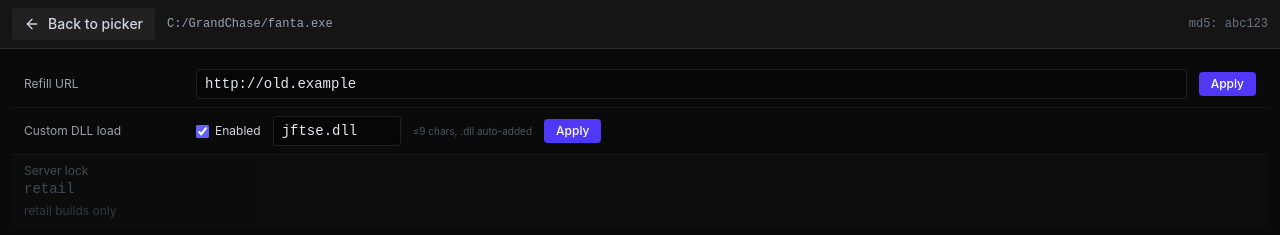
Test: ExePanel › appends .dll on blur (case-sensitive, no stripping)
The image size is (1280, 235).
Replace the text in the field labelled "Custom DLL load" with "foo" at [337, 131], box [273,116,401,146]
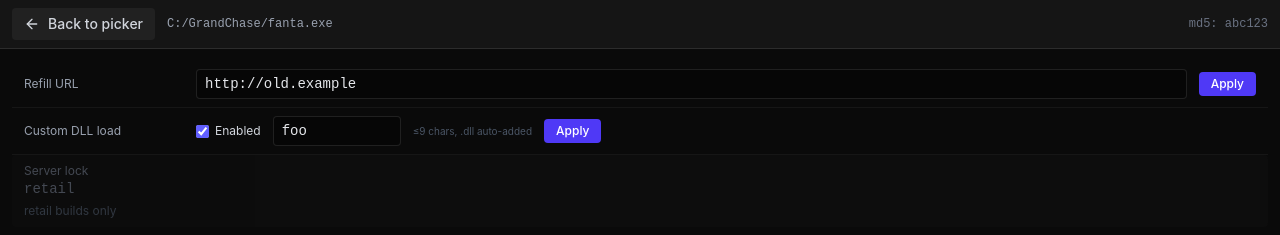
Leave the field labelled "Custom DLL load", box [273,116,401,146]
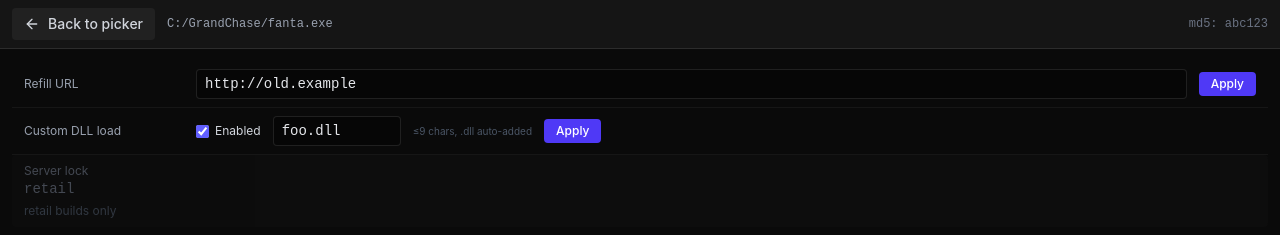
expect the field labelled "Custom DLL load" holds "foo.dll": met
Replace the text in the field labelled "Custom DLL load" with "bar.DLL" at [337, 131], box [273,116,401,146]
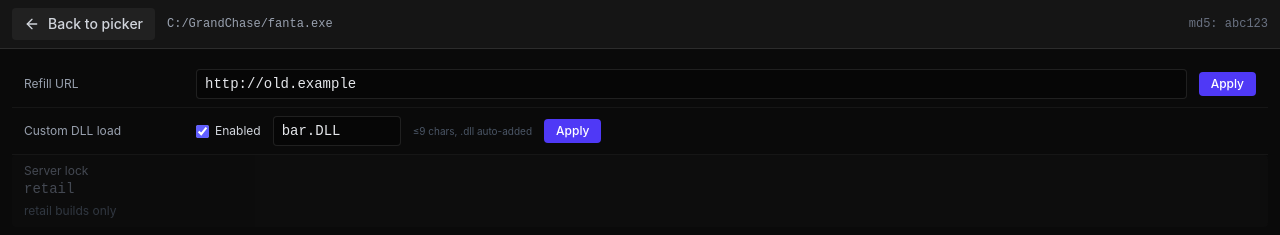
Leave the field labelled "Custom DLL load", box [273,116,401,146]
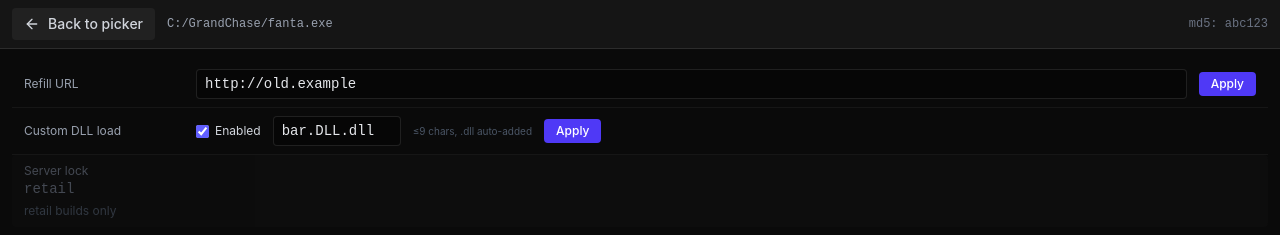
expect the field labelled "Custom DLL load" holds "bar.DLL.dll": met, box [273,116,401,146]
